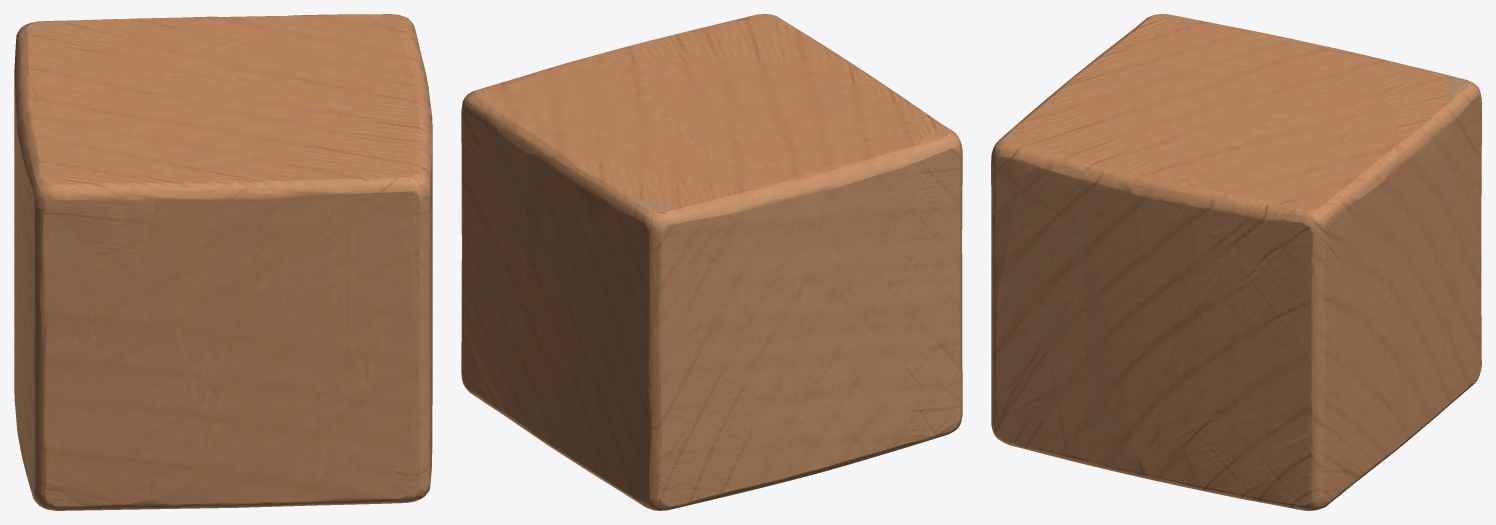
File: wooden-block.glb
3 renders of one model, left to right at view 1: azimuth 30°, elevation 25°; view 2: azimuth 150°, elevation 25°; view 3: azimuth 270°, elevation 25°, orthographic. The views are drawn at different scales.
Parts seen in each view (by area): view 1: output_unwrapped; view 2: output_unwrapped; view 3: output_unwrapped.
Part boxes in pixels (box(x1,y1,x2,y2)): output_unwrapped: box(14, 14, 432, 510); output_unwrapped: box(461, 14, 962, 510); output_unwrapped: box(991, 14, 1481, 510).
Size of the model in its own units: 1.9 by 1.29 by 1.9.
1 material, 1 textured.
